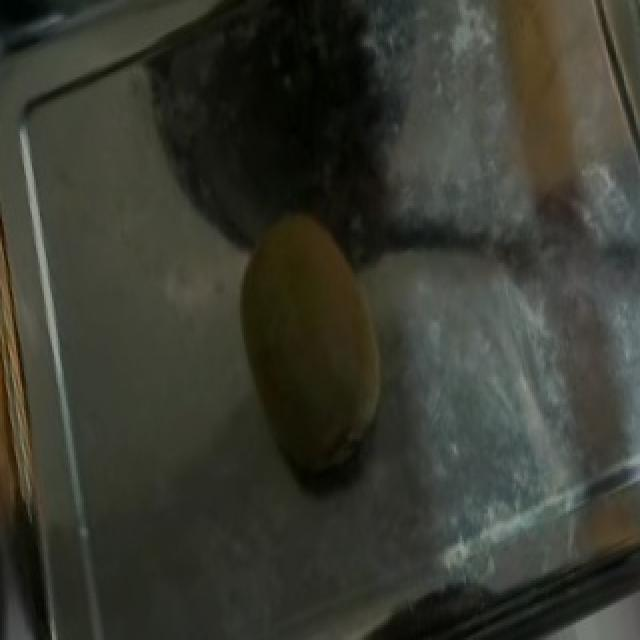Fruit: (202, 193, 432, 511)
